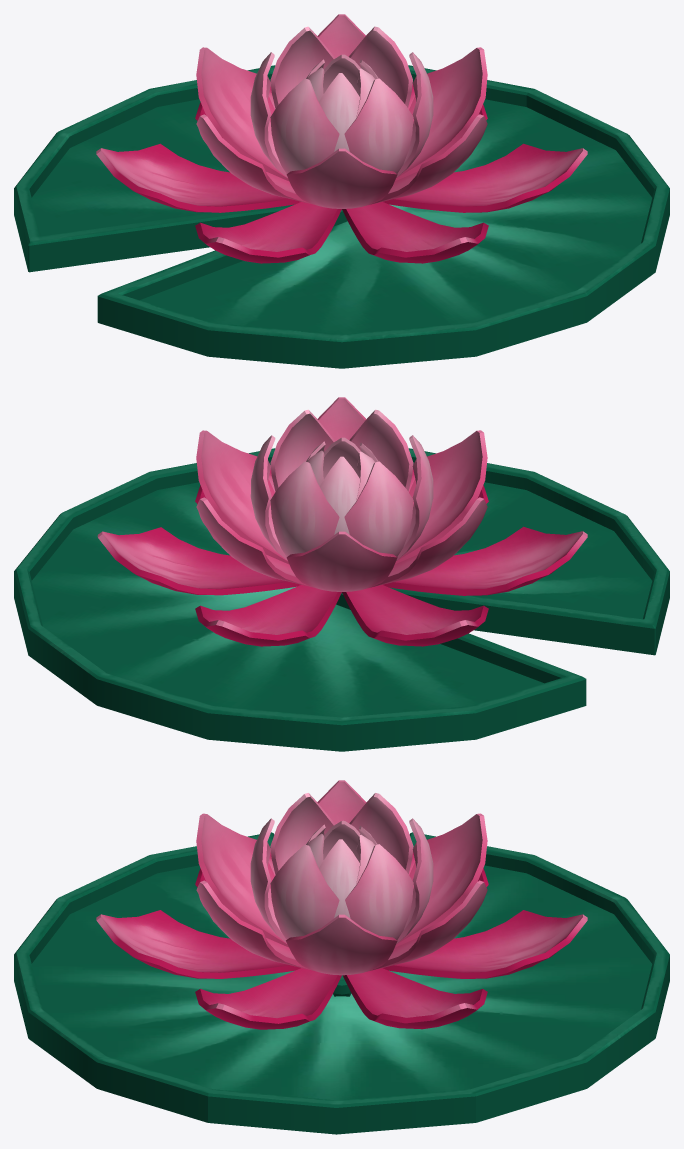
File: lotus.glb
3 renders of one model, top to bottom at view 1: azimuth 30°, elevation 25°; view 2: azimuth 150°, elevation 25°; view 3: azimuth 270°, elevation 25°, orthographic.
Parts seen in each view (by area): view 1: Object_5, Object_2, Object_4, Object_3, Object_6; view 2: Object_5, Object_2, Object_4, Object_3, Object_6; view 3: Object_5, Object_2, Object_4, Object_3, Object_6.
Boxes of the visible parts, x1=… form: Object_5: x1=14, y1=65, x2=669, y2=368; Object_2: x1=96, y1=84, x2=587, y2=263; Object_4: x1=196, y1=14, x2=487, y2=208; Object_3: x1=250, y1=26, x2=433, y2=177; Object_6: x1=306, y1=54, x2=378, y2=151; Object_5: x1=14, y1=448, x2=669, y2=751; Object_2: x1=97, y1=468, x2=587, y2=646; Object_4: x1=196, y1=397, x2=487, y2=591; Object_3: x1=250, y1=409, x2=433, y2=560; Object_6: x1=306, y1=437, x2=378, y2=534; Object_5: x1=14, y1=832, x2=669, y2=1134; Object_2: x1=96, y1=852, x2=587, y2=1029; Object_4: x1=196, y1=780, x2=487, y2=975; Object_3: x1=250, y1=793, x2=433, y2=943; Object_6: x1=306, y1=820, x2=377, y2=918.
Size of the model in its own units: 42.79 by 12.81 by 43.12.
5 materials, 5 textured.
